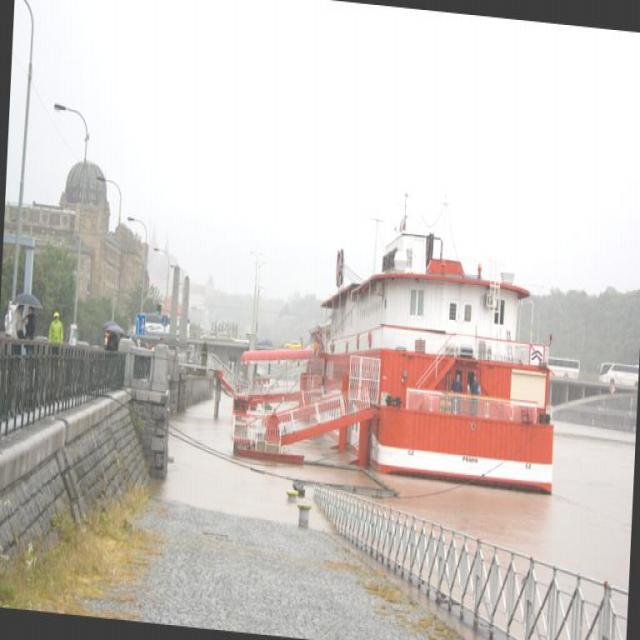flood: (168, 361, 637, 562)
